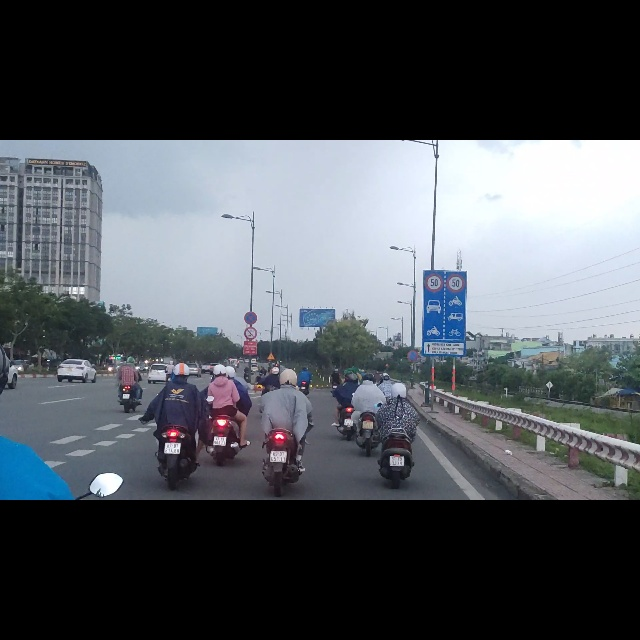bien_cam: (446, 237, 465, 272), (425, 237, 443, 271), (244, 303, 258, 328), (244, 332, 257, 356), (407, 372, 419, 394), (266, 375, 276, 392)
